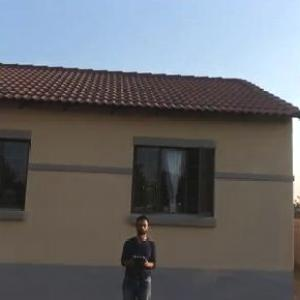follow: (119, 202, 161, 299)
